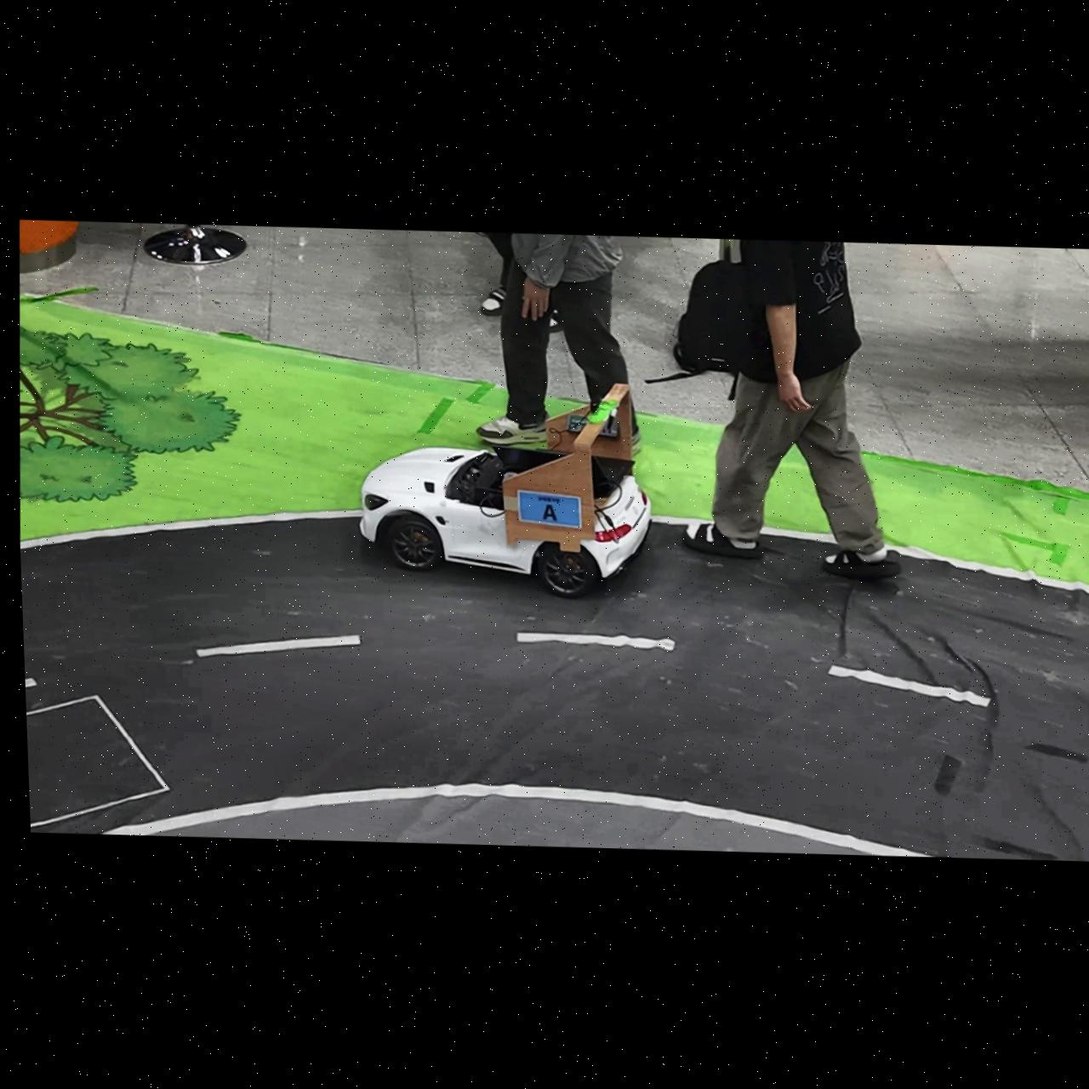broken_line: (828, 665, 990, 706), (197, 634, 360, 657), (515, 632, 674, 651), (25, 678, 36, 687)
